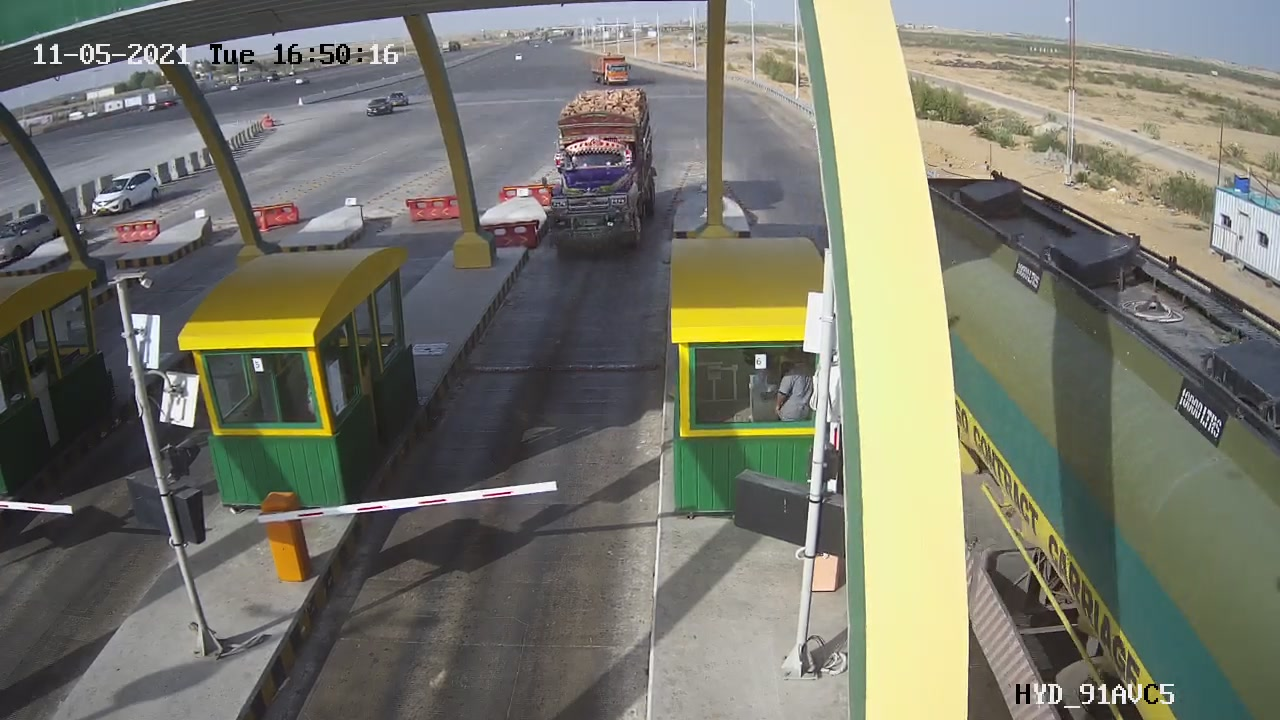F5: (519, 76, 676, 268)
